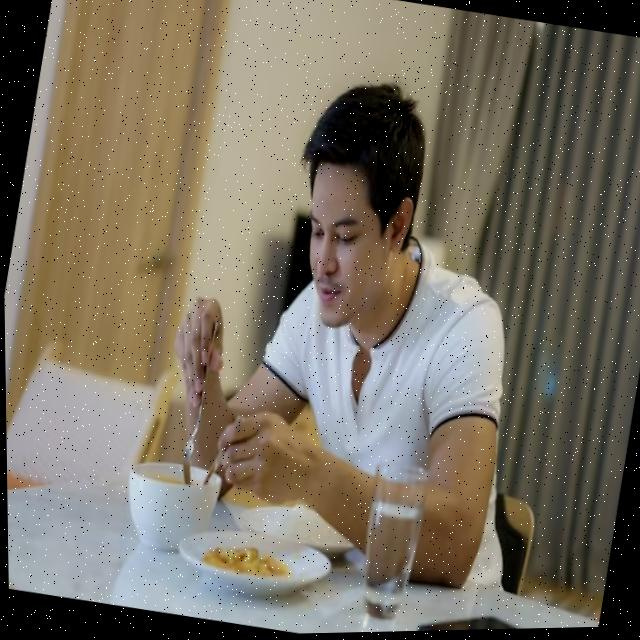eating-person: (100, 60, 516, 635)
